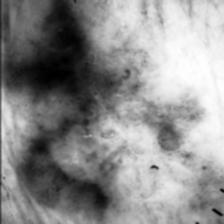Potentially Malignant Skin Tumors: (11, 4, 192, 224)
